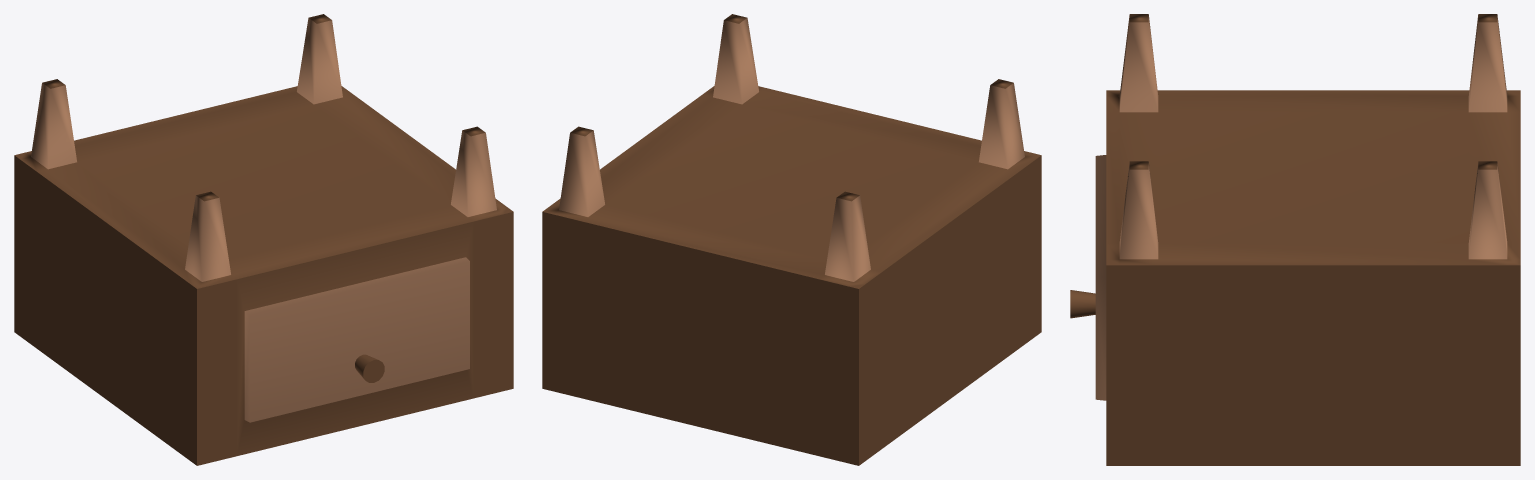
File: SideTable.fbx
3 renders of one model, left to right at view 1: azimuth 30°, elevation 25°; view 2: azimuth 150°, elevation 25°; view 3: azimuth 270°, elevation 25°, orthographic. The views are drawn at different scales.
Parts seen in each view (by area): view 1: pCube120_pCylinder16; view 2: pCube120_pCylinder16; view 3: pCube120_pCylinder16.
Boxes of the visible parts, x1=… form: pCube120_pCylinder16: x1=14, y1=14, x2=513, y2=465; pCube120_pCylinder16: x1=542, y1=14, x2=1041, y2=465; pCube120_pCylinder16: x1=1070, y1=14, x2=1520, y2=465.
Bounding box in the file's own units: 1000 × 763 × 1087.
